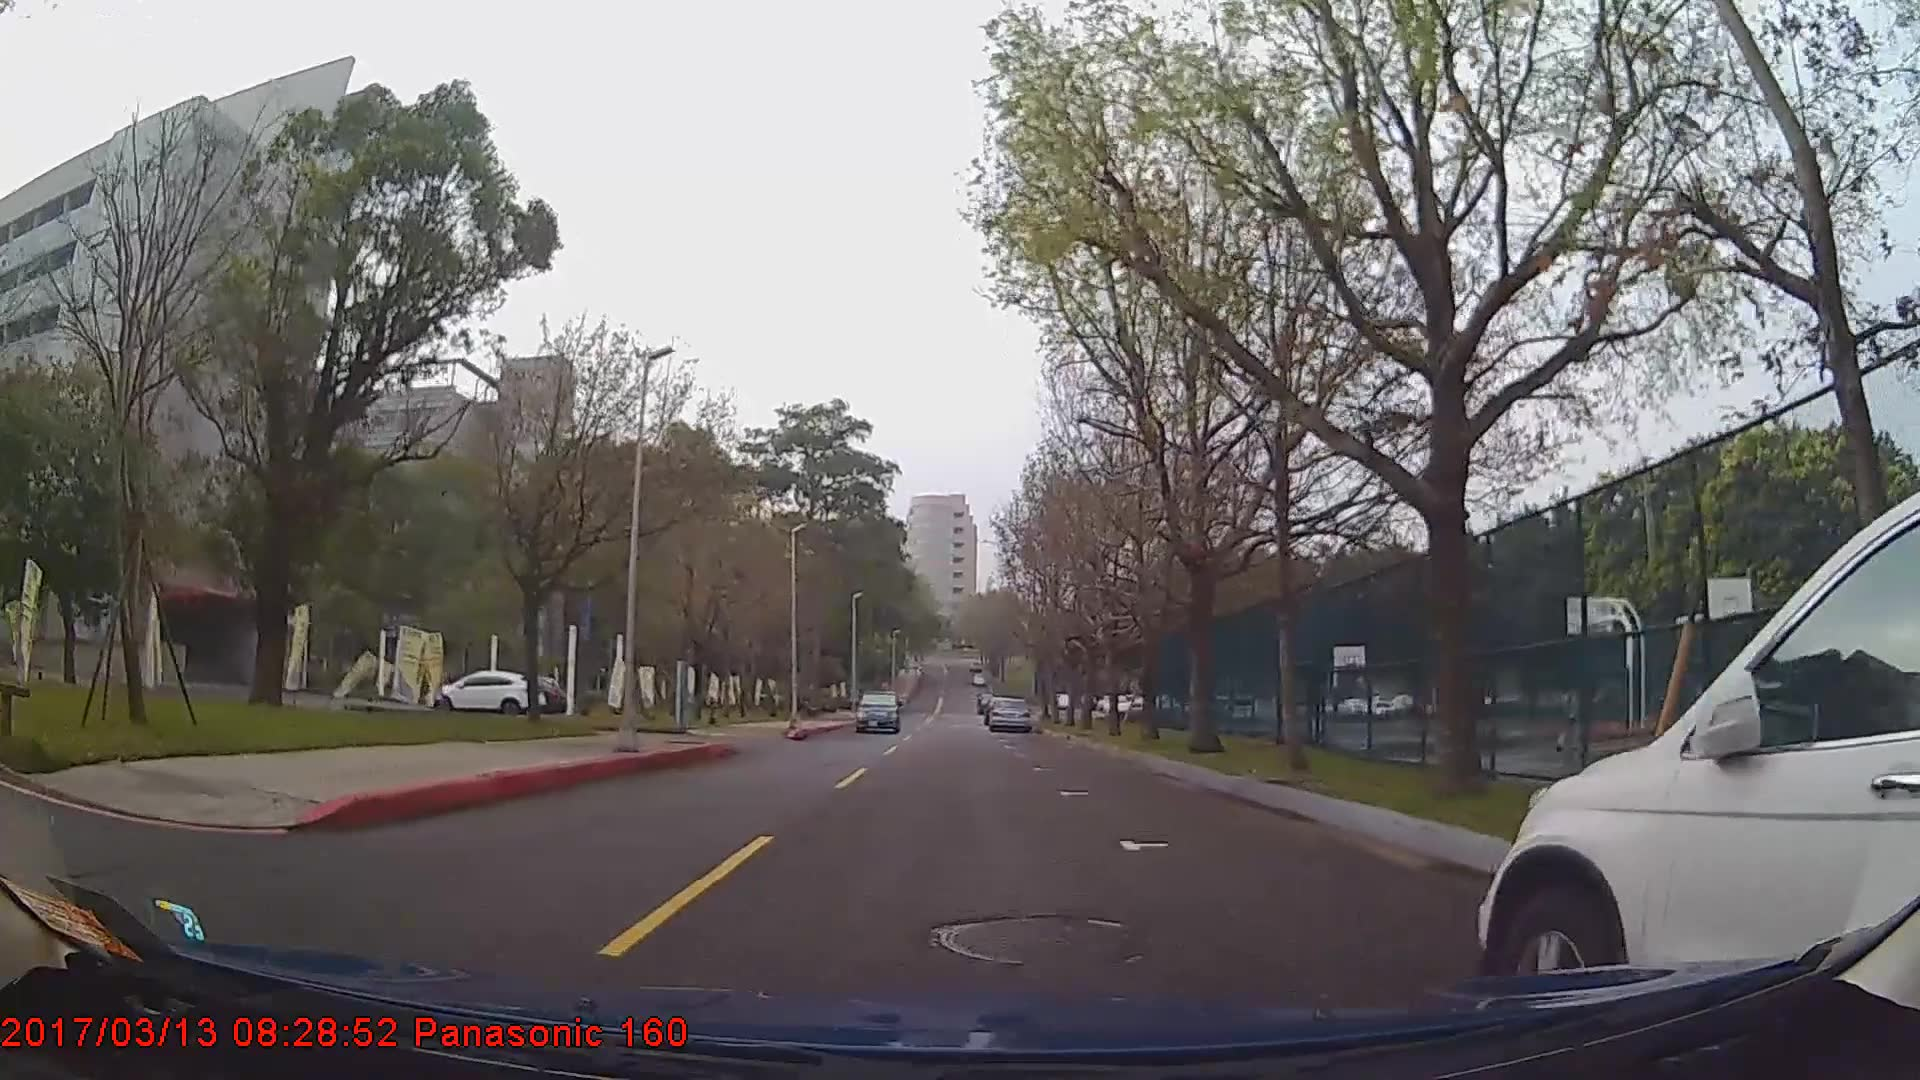vehicle: (1478, 487, 1920, 1040), (427, 666, 545, 715), (855, 686, 901, 735), (988, 694, 1033, 733)
